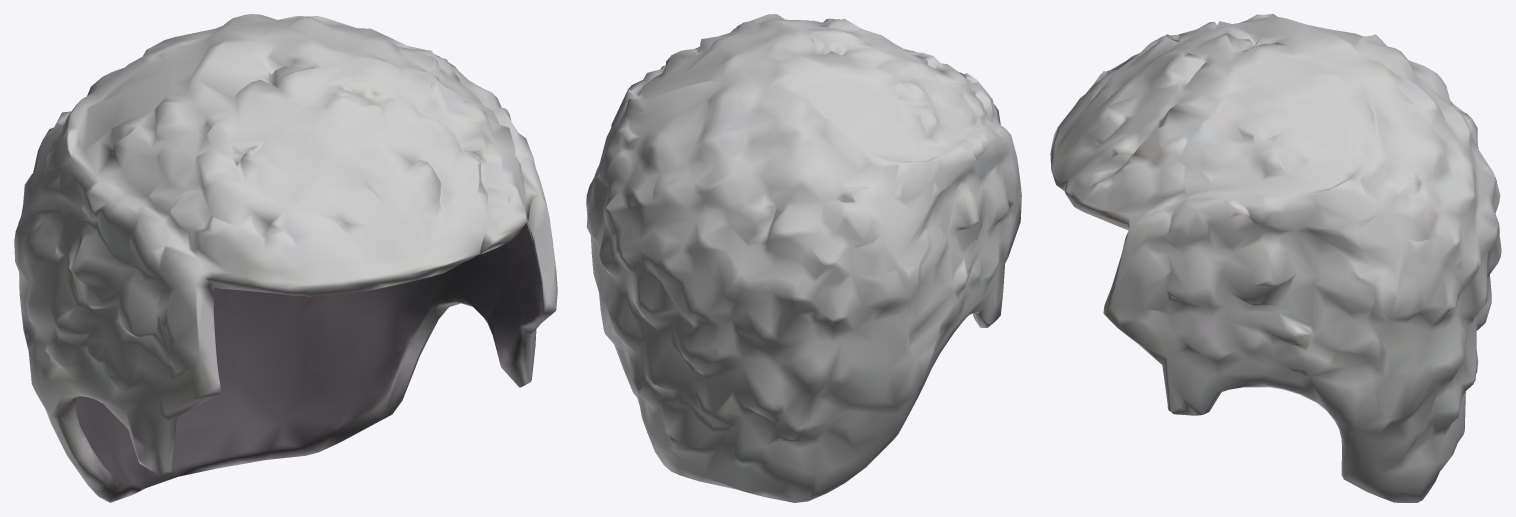
The model's file is hair-crop.glb.
The picture shows the model from 3 angles, left to right: view 1: azimuth 30°, elevation 25°; view 2: azimuth 150°, elevation 25°; view 3: azimuth 270°, elevation 25°; orthographic projection. The views are drawn at different scales.
Parts seen in each view (by area): view 1: hair-crop; view 2: hair-crop; view 3: hair-crop.
Boxes of the visible parts, left/top/right/bottom form: hair-crop: left=14, top=14, right=557, bottom=502; hair-crop: left=586, top=14, right=1021, bottom=502; hair-crop: left=1050, top=14, right=1501, bottom=502.
Bounding box in the file's own units: 0.9115 × 1 × 0.9567.
1 material, 1 textured.
